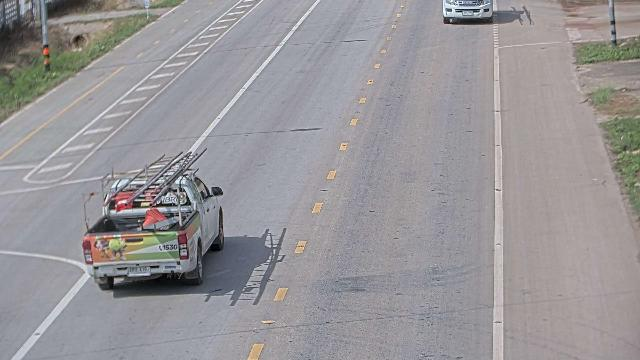pickup-truck: (81, 148, 225, 290), (442, 0, 494, 24)
